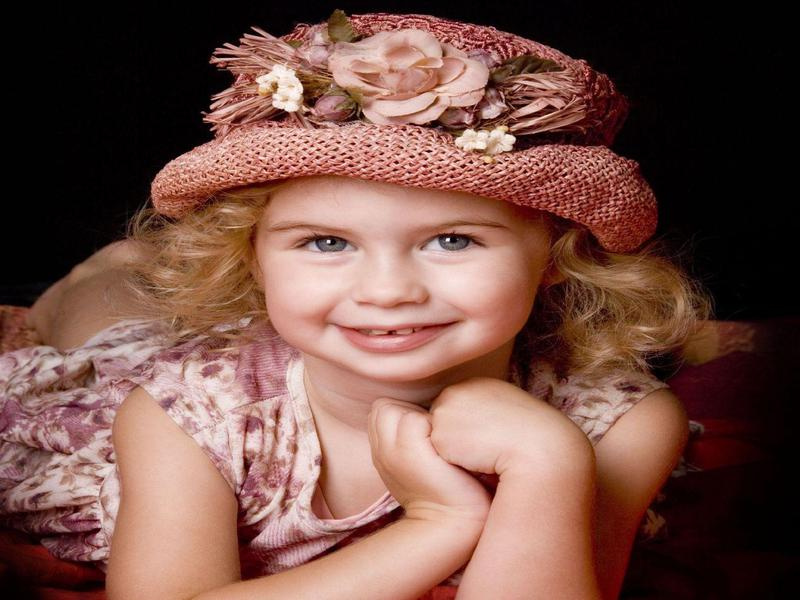person: (2, 9, 683, 596)
